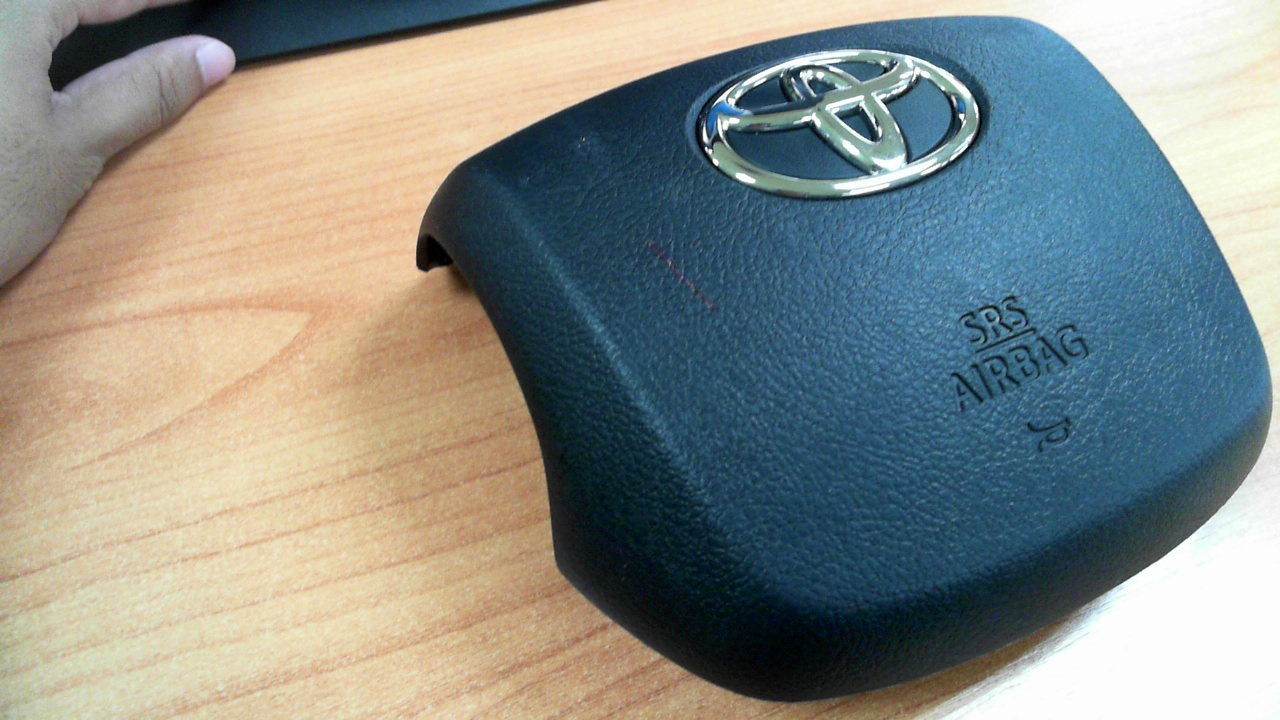Airbag: (415, 15, 1272, 702)
Toyota: (702, 49, 980, 199)
